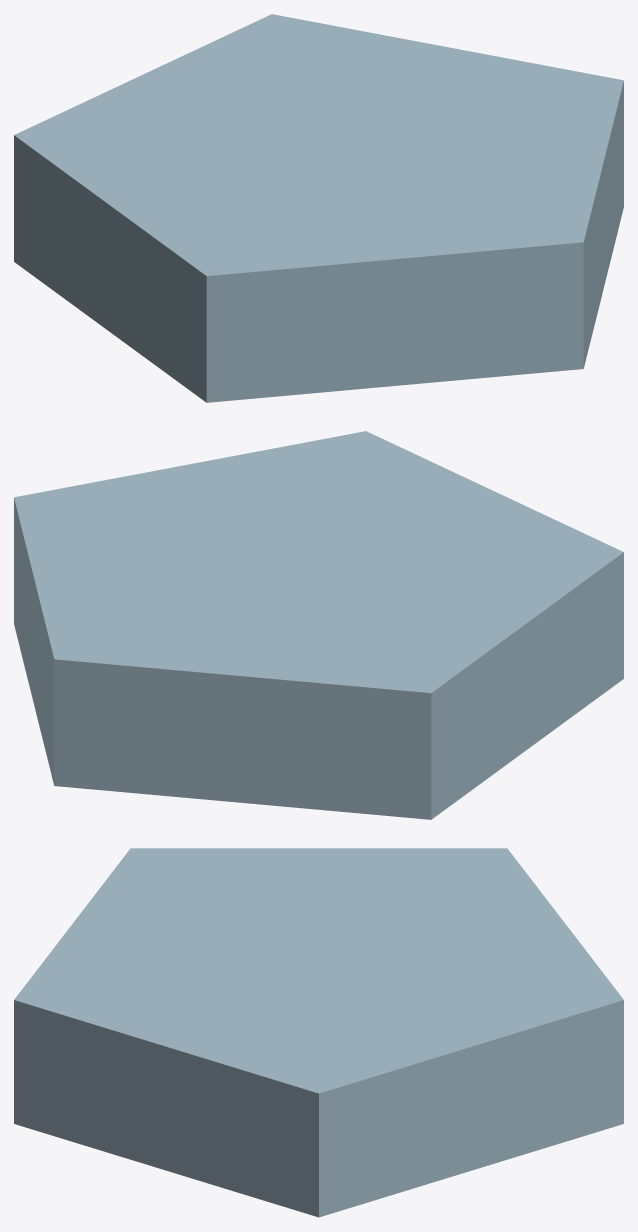
Rendered from IceCubeNew.fbx.
3 renders of one model, top to bottom at view 1: azimuth 30°, elevation 25°; view 2: azimuth 150°, elevation 25°; view 3: azimuth 270°, elevation 25°, orthographic. The views are drawn at different scales.
Visible parts, largest first — view 1: ice; view 2: ice; view 3: ice.
Boxes of the visible parts, <box> form: ice: <box>14,14,623,402</box>; ice: <box>14,431,623,819</box>; ice: <box>14,848,623,1217</box>.
Bounding box in the file's own units: 90.45 × 21.32 × 95.11.
